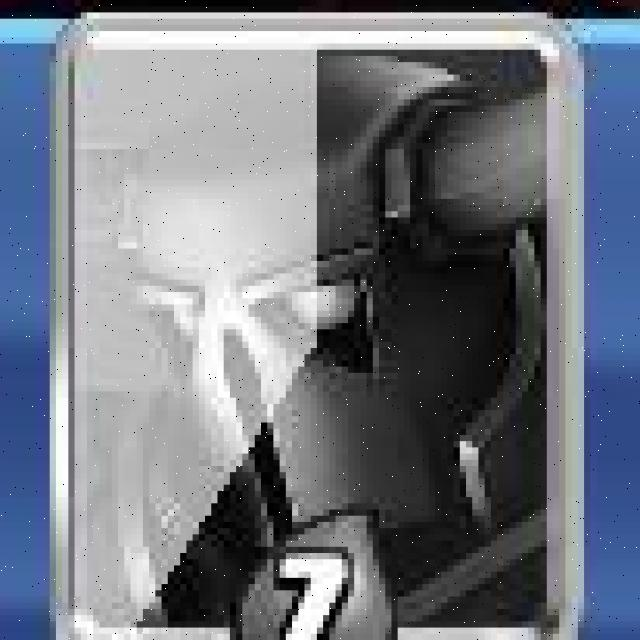Pekka: (60, 15, 574, 640)
